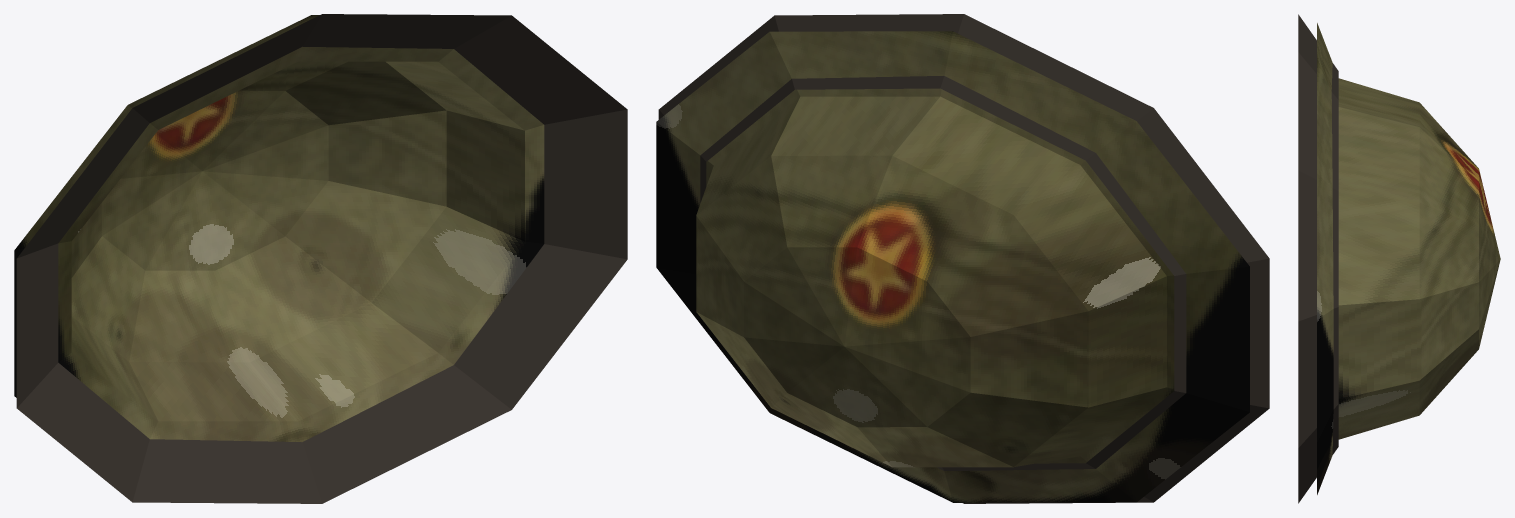
The model's file is pith_worn.glb.
The picture shows the model from 3 angles, left to right: view 1: azimuth 30°, elevation 25°; view 2: azimuth 150°, elevation 25°; view 3: azimuth 270°, elevation 25°; orthographic projection. The views are drawn at different scales.
Visible parts, largest first — view 1: pith_worn, pith_worn_band; view 2: pith_worn, pith_worn_band; view 3: pith_worn, pith_worn_band.
Part boxes in pixels (left/top/right/bottom): pith_worn: left=14, top=15, right=544, bottom=441; pith_worn_band: left=16, top=14, right=627, bottom=503; pith_worn: left=656, top=31, right=1249, bottom=502; pith_worn_band: left=658, top=14, right=1269, bottom=503; pith_worn: left=1317, top=23, right=1500, bottom=494; pith_worn_band: left=1298, top=14, right=1338, bottom=503.
Size of the model in its own units: 0.3184 by 0.244 by 0.1081.
2 materials, 1 textured.
